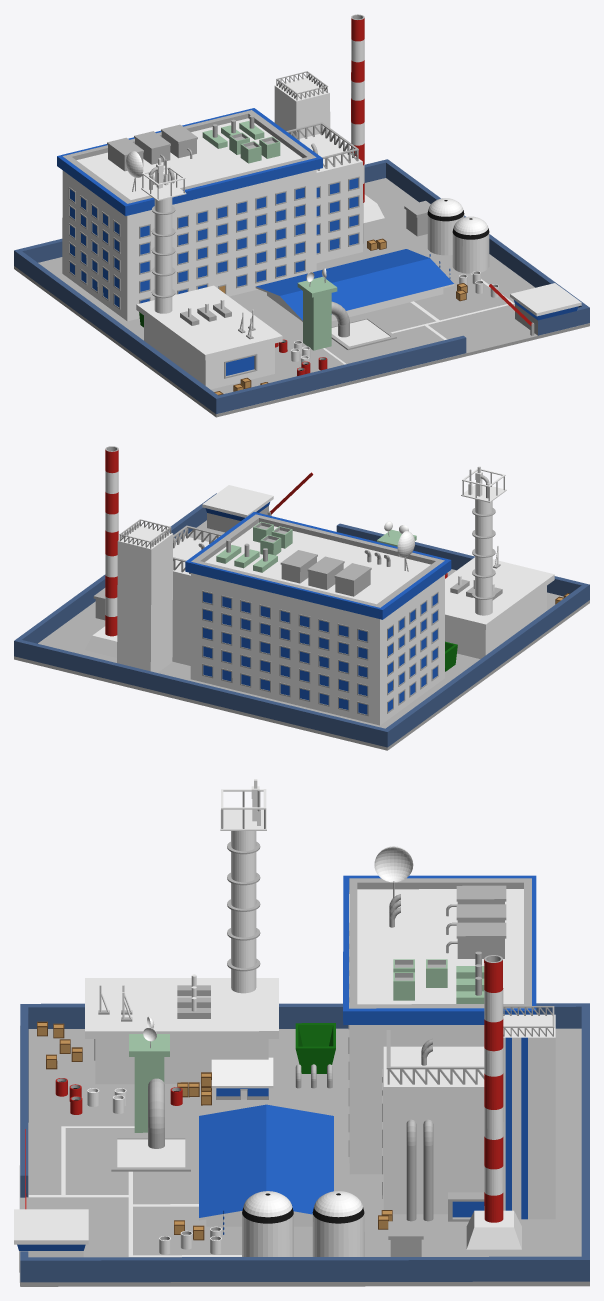
The model's file is Factory.fbx.
The picture shows the model from 3 angles, top to bottom: view 1: azimuth 30°, elevation 25°; view 2: azimuth 150°, elevation 25°; view 3: azimuth 270°, elevation 25°; orthographic projection. The views are drawn at different scales.
Parts seen in each view (by area): view 1: Cube; view 2: Cube; view 3: Cube.
Part boxes in pixels (x1,y1,x2,y2): Cube: [14, 14, 589, 417]; Cube: [14, 446, 589, 750]; Cube: [14, 779, 589, 1286].
Size of the model in its own units: 519 by 267 by 492.
